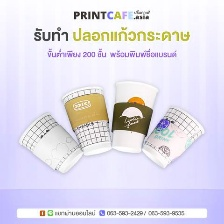paper_cup: (14, 109, 87, 176), (139, 100, 207, 171), (56, 82, 115, 159), (107, 77, 162, 155)
